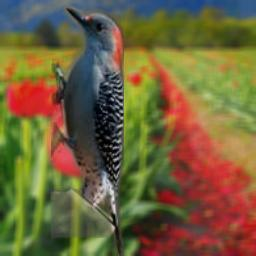Woodpecker: (51, 0, 124, 256)
